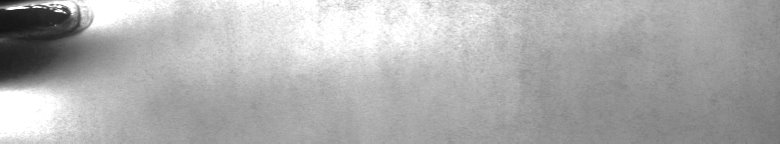ke: (4, 4, 104, 96)
